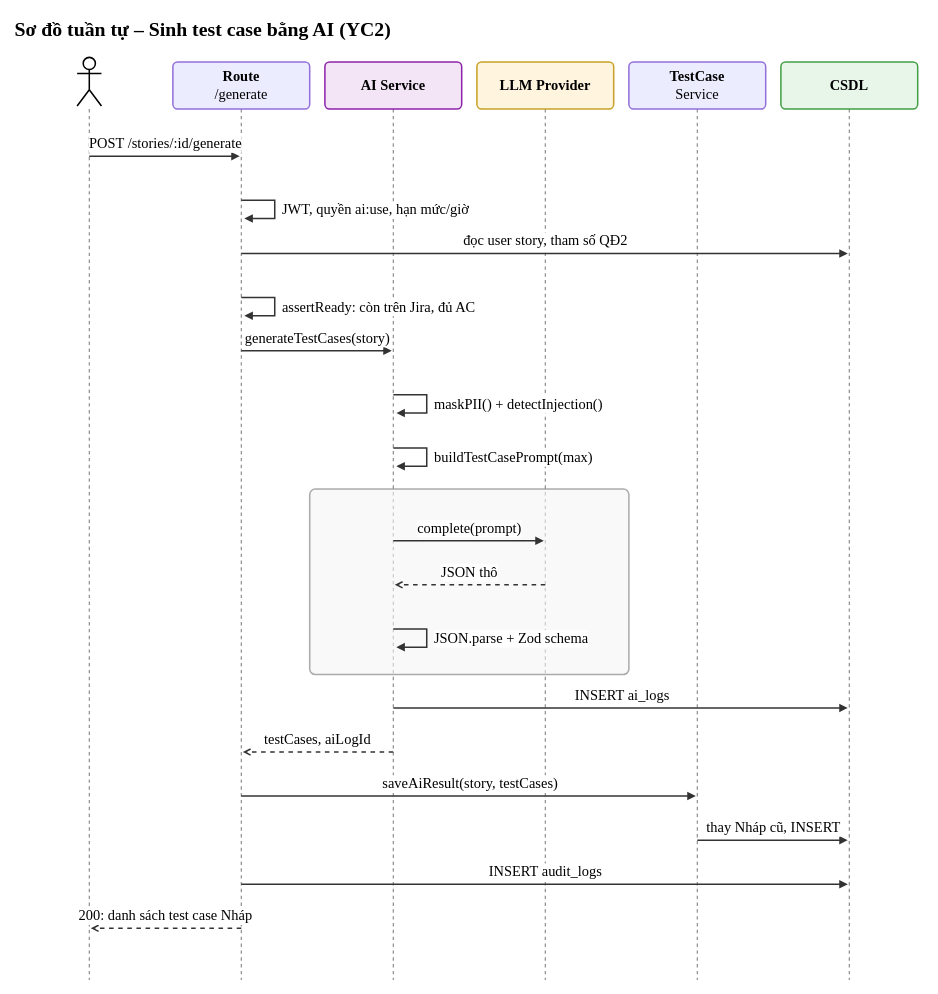
The diagram is 938 pixels wide and 994 high, and some of its shapes have lost their labels. The box of each missing label's shape, as (x1, y1, x2, y2) in pixels:
loop [tối đa 1 + AI_MAX_RETRY lần]: (309, 488, 629, 675)
Tester: (76, 56, 102, 106)
